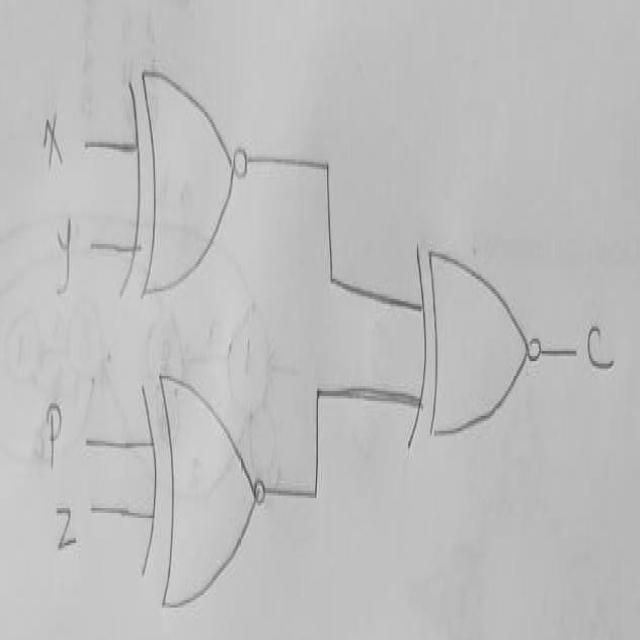XNOR: (114, 31, 263, 319), (130, 357, 277, 622), (402, 221, 554, 468)
